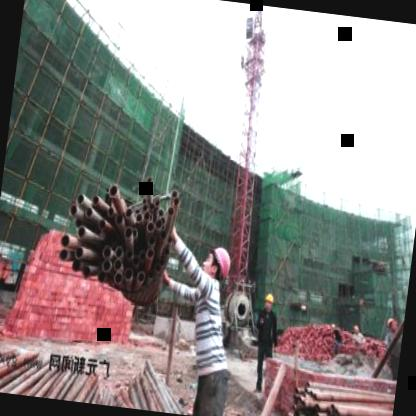helmet: (197, 237, 238, 290), (261, 291, 276, 315)
